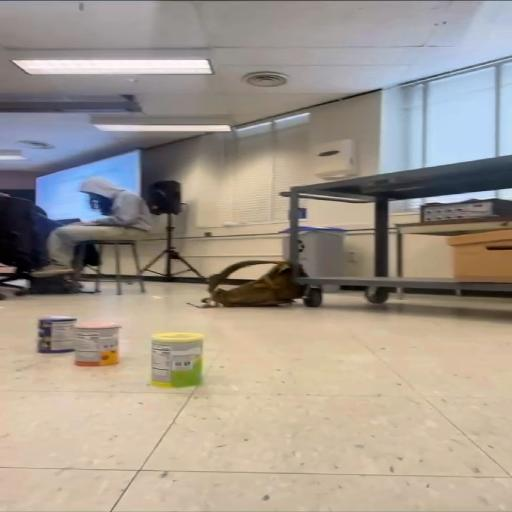pringle can: (150, 332, 206, 388), (78, 322, 122, 368), (38, 316, 78, 353)
